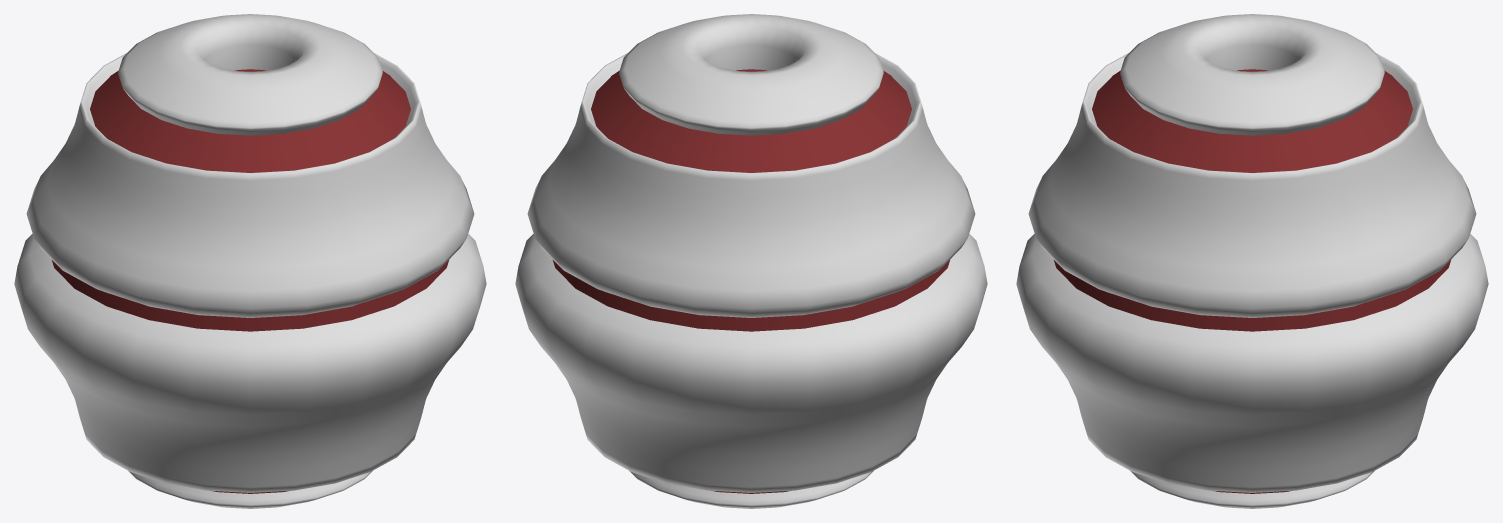
File: Bomb.fbx
3 renders of one model, left to right at view 1: azimuth 30°, elevation 25°; view 2: azimuth 150°, elevation 25°; view 3: azimuth 270°, elevation 25°, orthographic.
Parts seen in each view (by area): view 1: Sphere, Sphere.001; view 2: Sphere, Sphere.001; view 3: Sphere, Sphere.001.
Boxes of the visible parts, <box> form: Sphere: <box>14,14,486,508</box>; Sphere.001: <box>52,69,448,493</box>; Sphere: <box>515,14,987,508</box>; Sphere.001: <box>553,69,949,493</box>; Sphere: <box>1016,14,1488,508</box>; Sphere.001: <box>1054,69,1450,493</box>.
Size of the model in its own units: 236 by 237 by 236.
